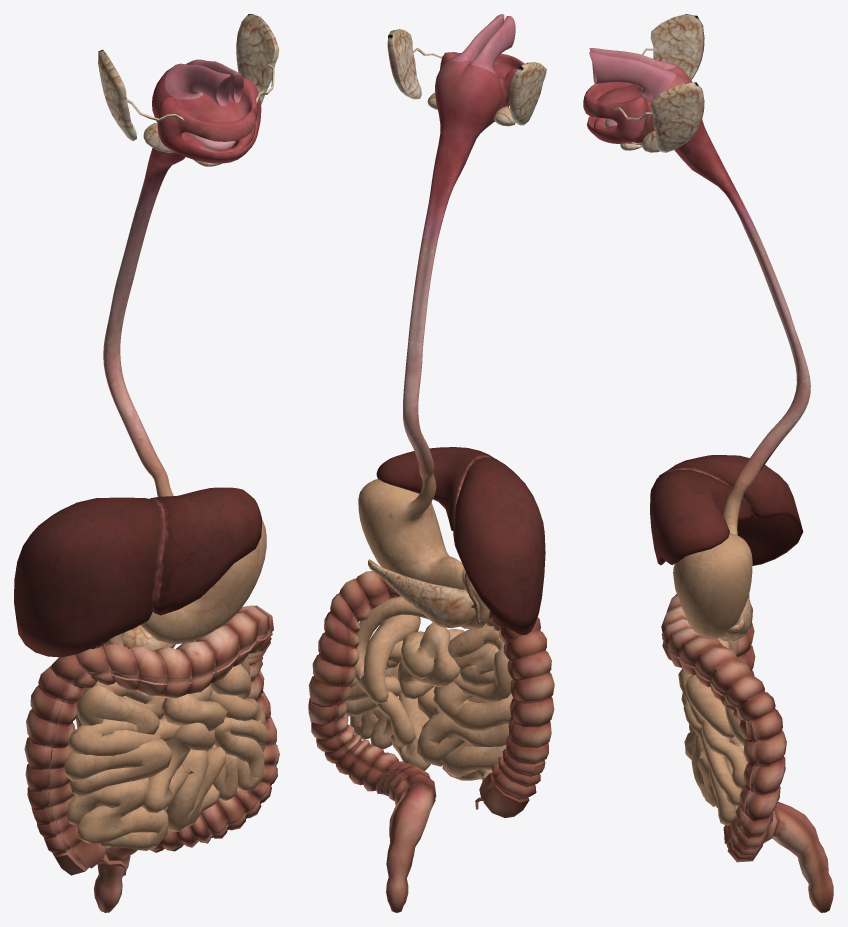
The model's file is - Digestivo.FBX.
3 views of the same model, side by side, from view 1: azimuth 30°, elevation 25°; view 2: azimuth 150°, elevation 25°; view 3: azimuth 270°, elevation 25° (orthographic). The views are drawn at different scales.
Visible parts, largest first — view 1: DigestiveSystem; view 2: DigestiveSystem; view 3: DigestiveSystem.
Boxes of the visible parts, left/top/right/bottom form: DigestiveSystem: left=14, top=14, right=279, bottom=912; DigestiveSystem: left=308, top=14, right=554, bottom=912; DigestiveSystem: left=583, top=14, right=833, bottom=912.
Size of the model in its own units: 22.71 by 76.58 by 20.11.
